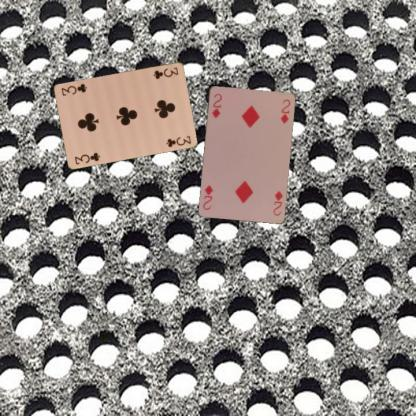2d: (209, 91, 223, 119), (270, 188, 284, 216)
3c: (150, 64, 180, 80), (72, 150, 101, 165)
